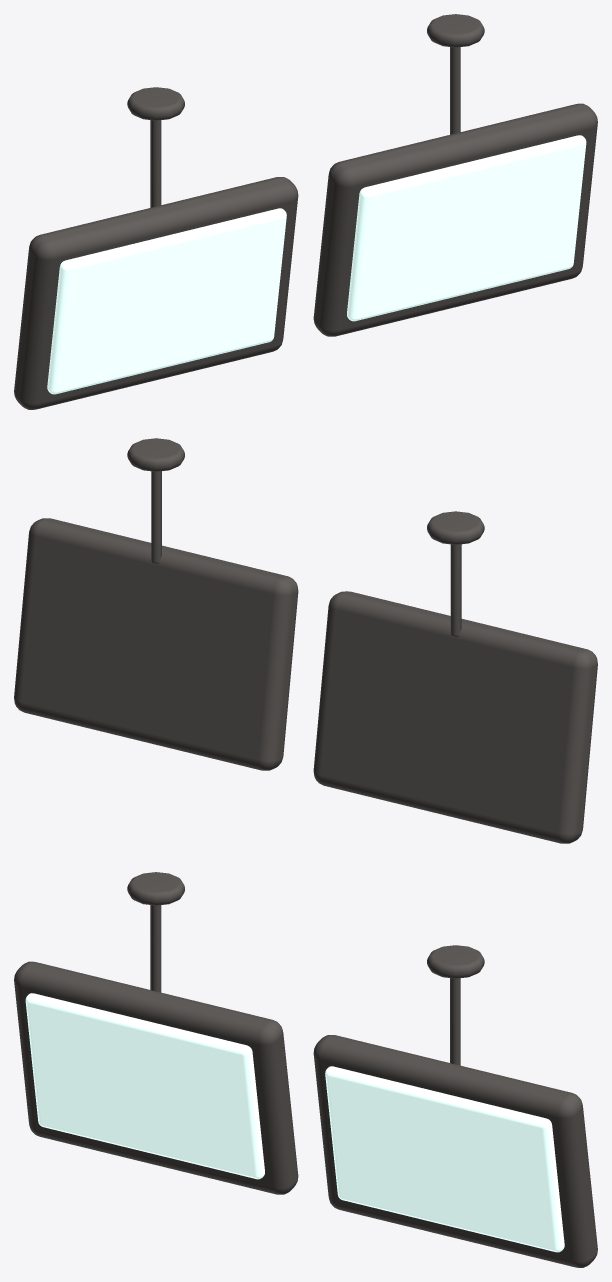
The model's file is dual_hanging_screens.glb.
3 views of the same model, one above another, from view 1: azimuth 30°, elevation 25°; view 2: azimuth 150°, elevation 25°; view 3: azimuth 330°, elevation 25° (orthographic).
Visible parts, largest first — view 1: dual_hanging_screens_mesh; view 2: dual_hanging_screens_mesh; view 3: dual_hanging_screens_mesh.
Boxes of the visible parts, x1,y1,x2,y2 form: dual_hanging_screens_mesh: (14,14,597,409); dual_hanging_screens_mesh: (14,438,597,843); dual_hanging_screens_mesh: (14,872,597,1267).
Bounding box in the file's own units: 0.9 × 0.4387 × 0.1028.
